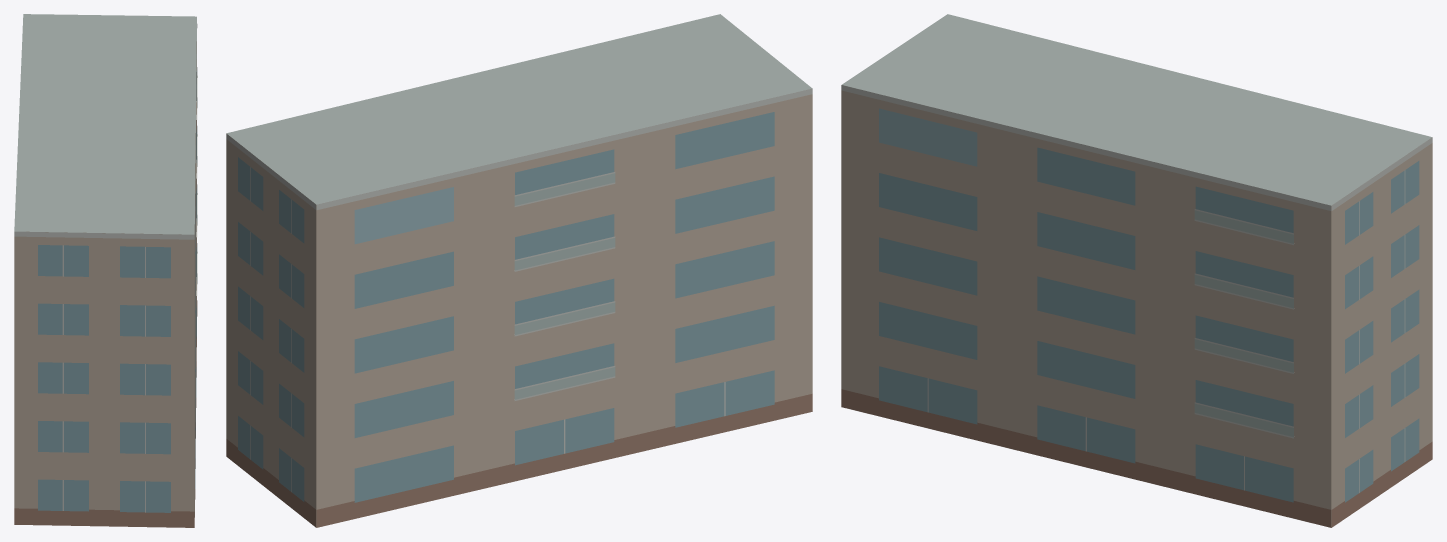
The model's file is survey-upis-32677623.glb.
3 renders of one model, left to right at view 1: azimuth 30°, elevation 25°; view 2: azimuth 150°, elevation 25°; view 3: azimuth 270°, elevation 25°, orthographic. The views are drawn at different scales.
Visible parts, largest first — view 1: survey-upis-32677623.tmp; view 2: survey-upis-32677623.tmp; view 3: survey-upis-32677623.tmp.
Part boxes in pixels (x1=…): survey-upis-32677623.tmp: x1=14, y1=14, x2=197, y2=527; survey-upis-32677623.tmp: x1=226, y1=14, x2=812, y2=527; survey-upis-32677623.tmp: x1=841, y1=14, x2=1432, y2=527.
Bounding box in the file's own units: 18 × 14.1 × 23.45.
